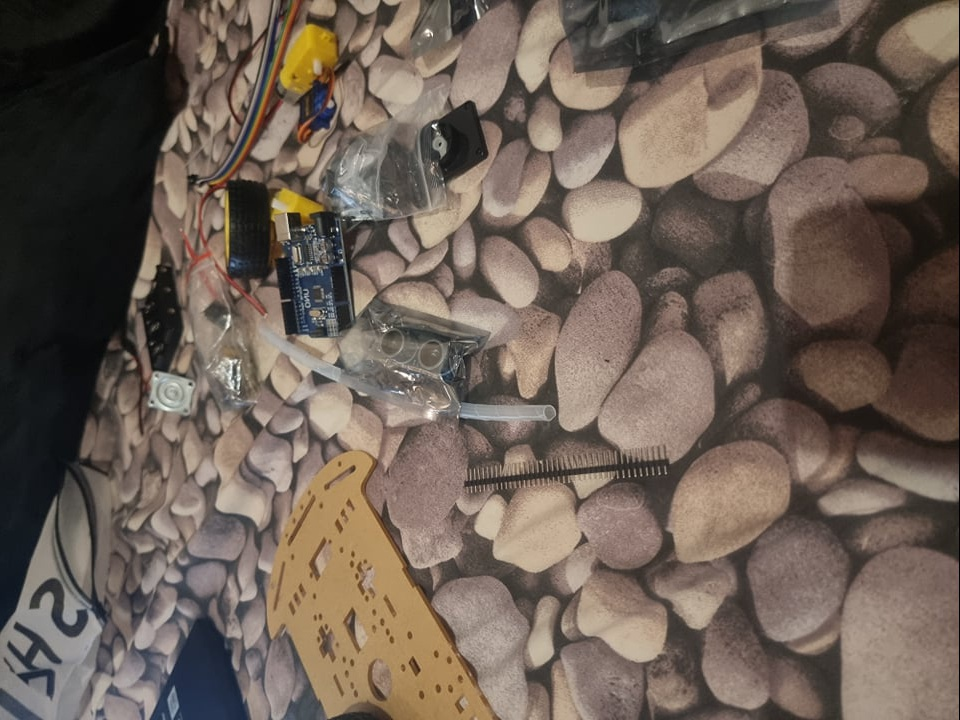BATTERY BOX: (139, 258, 188, 371)
SENSOR: (377, 320, 464, 385)
UNO R3: (272, 205, 358, 339)
